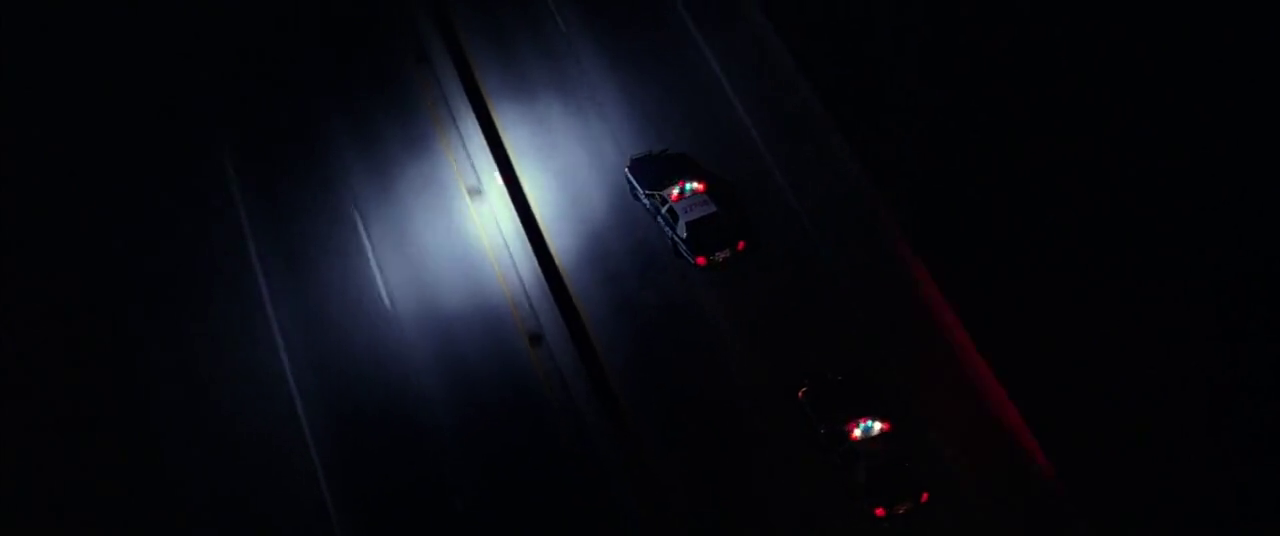car: (617, 143, 752, 279)
